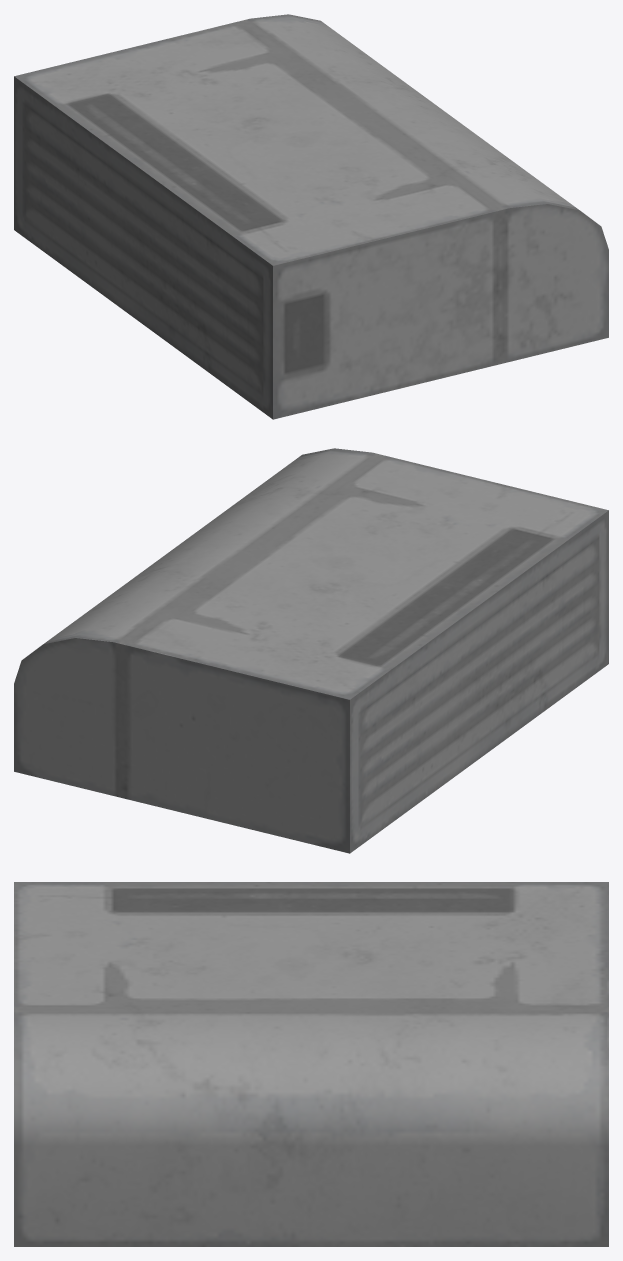
The model's file is CP_Ventilation_02.fbx.
The picture shows the model from 3 angles, top to bottom: view 1: azimuth 30°, elevation 25°; view 2: azimuth 150°, elevation 25°; view 3: azimuth 270°, elevation 25°; orthographic projection. The views are drawn at different scales.
Parts seen in each view (by area): view 1: CP_Ventilation_02; view 2: CP_Ventilation_02; view 3: CP_Ventilation_02.
Boxes of the visible parts, box(x1,y1,x2,y2) form: CP_Ventilation_02: box(14, 14, 608, 419); CP_Ventilation_02: box(14, 448, 608, 853); CP_Ventilation_02: box(14, 882, 608, 1246).
Bounding box in the file's own units: 62.13 × 27.17 × 82.99.
